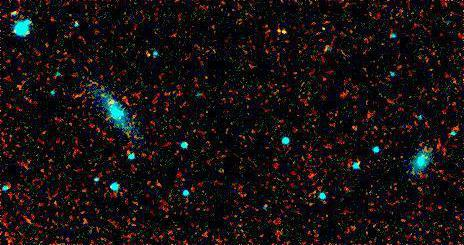star: (265, 16, 295, 46)
